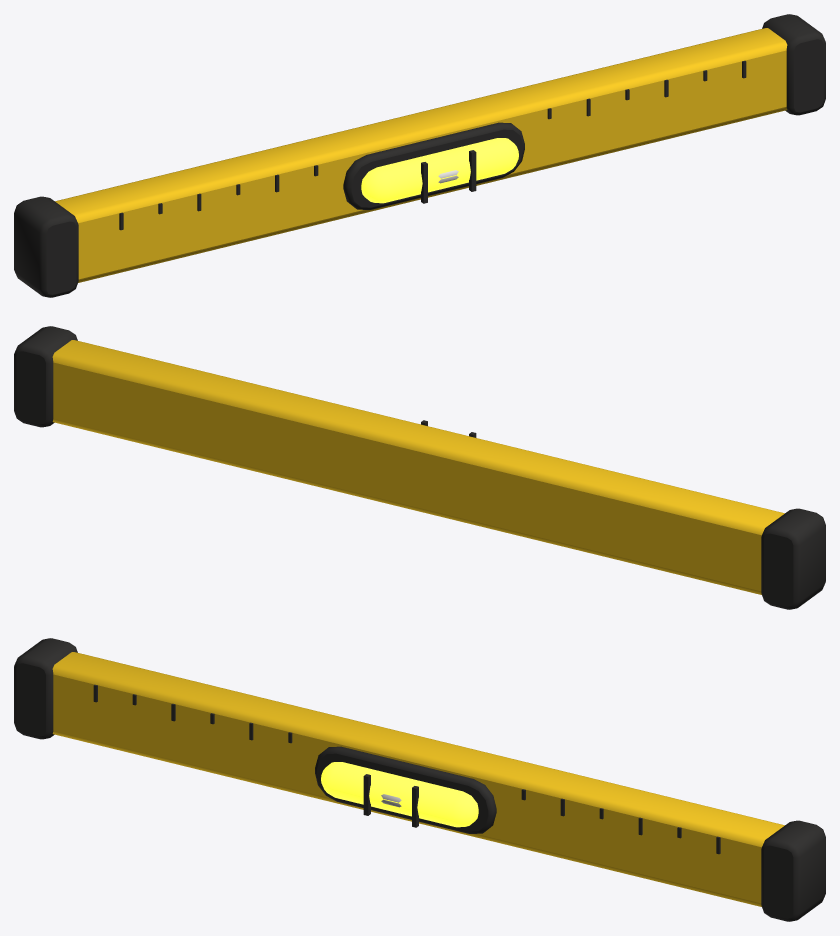
The model's file is level.glb.
3 views of the same model, one above another, from view 1: azimuth 30°, elevation 25°; view 2: azimuth 150°, elevation 25°; view 3: azimuth 330°, elevation 25° (orthographic).
Parts seen in each view (by area): view 1: level-root; view 2: level-root; view 3: level-root.
Boxes of the visible parts, x1=… form: level-root: x1=14, y1=14, x2=825, y2=297; level-root: x1=14, y1=326, x2=825, y2=609; level-root: x1=14, y1=638, x2=825, y2=921.
Bounding box in the file's own units: 1.01 × 0.097 × 0.1.
